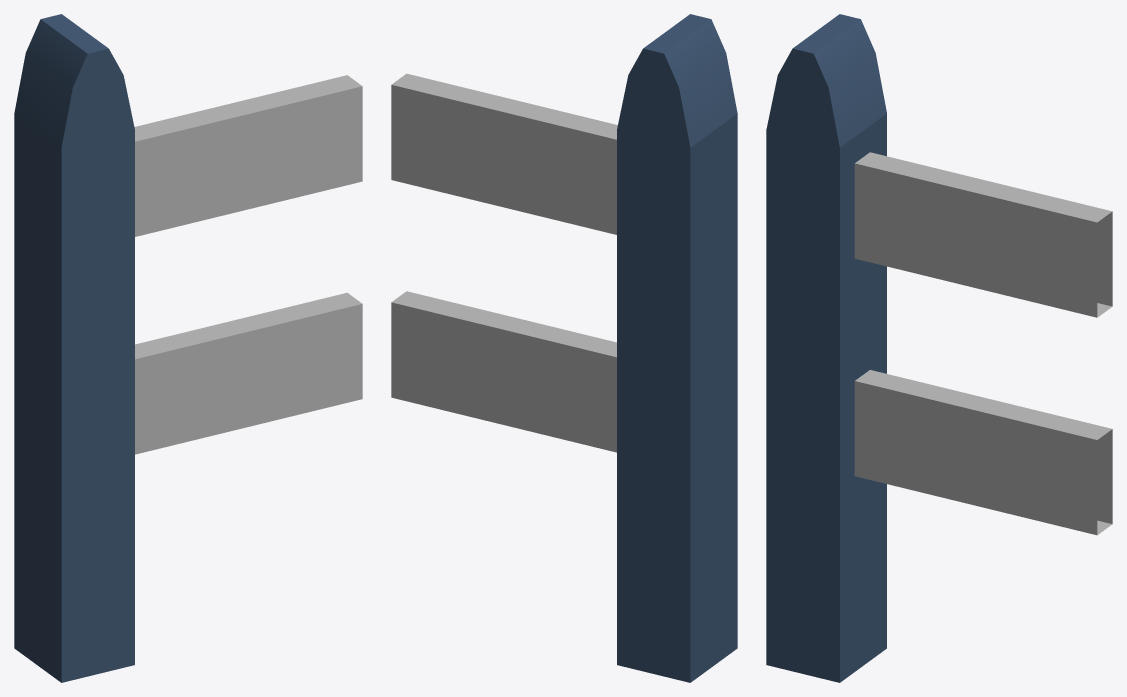
The model's file is SM_Fence14.fbx.
The picture shows the model from 3 angles, left to right: view 1: azimuth 30°, elevation 25°; view 2: azimuth 150°, elevation 25°; view 3: azimuth 330°, elevation 25°; orthographic projection.
Parts seen in each view (by area): view 1: SM_Fence14; view 2: SM_Fence14; view 3: SM_Fence14.
Part boxes in pixels (x1,y1,x2,y2): SM_Fence14: [14, 14, 362, 682]; SM_Fence14: [391, 14, 737, 682]; SM_Fence14: [766, 14, 1112, 682].
Size of the model in its own units: 221 by 417 by 57.23.
